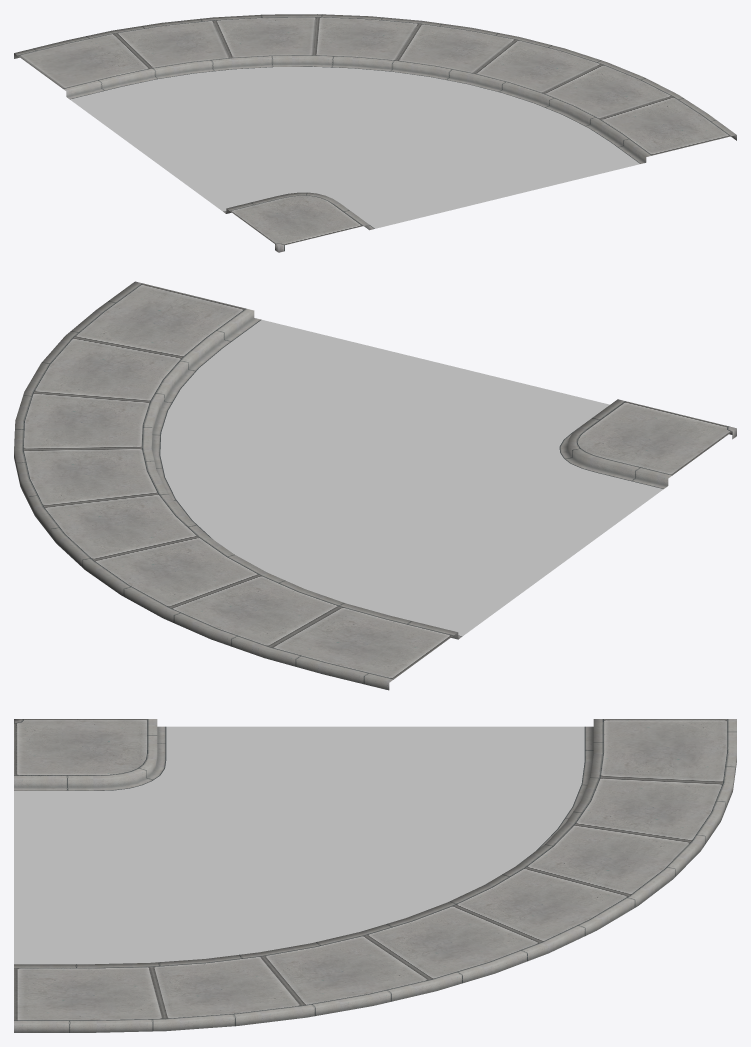
The model's file is street.curve.fbx.
3 views of the same model, one above another, from view 1: azimuth 30°, elevation 25°; view 2: azimuth 150°, elevation 25°; view 3: azimuth 270°, elevation 25° (orthographic). The views are drawn at different scales.
Visible parts, largest first — view 1: MESH street.curve; view 2: MESH street.curve; view 3: MESH street.curve.
Part boxes in pixels (x1,y1,x2,y2): MESH street.curve: (14, 14, 736, 252); MESH street.curve: (14, 281, 736, 690); MESH street.curve: (14, 719, 736, 1032).
Size of what is drawn, in the model's own units: 1200 by 15 by 1200.
